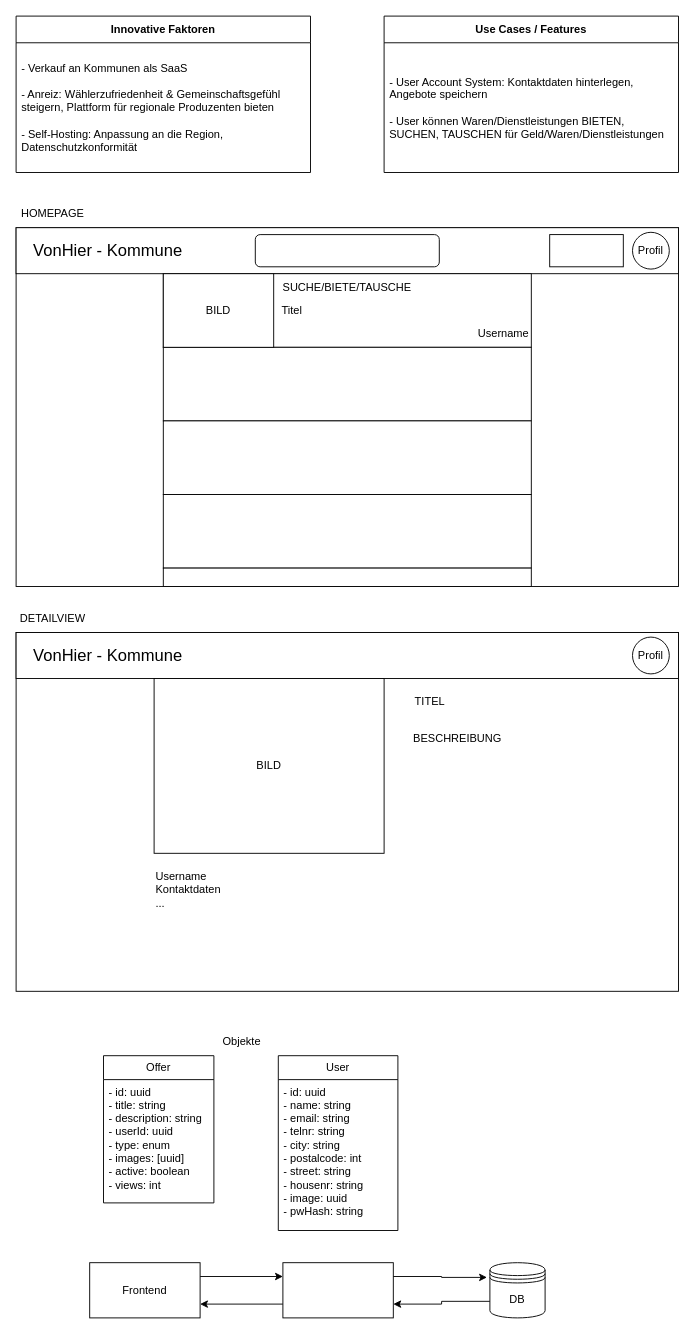
The diagram is 695 pixels wide and 1334 high, and some of its shapes have lost their labels. The centre of each missing label's shape, as x and y in pixels:
Anzeige aufgeben: point 586,250
Backend: point 337,1290
SEARCHBAR nach Titel: point 346,250
